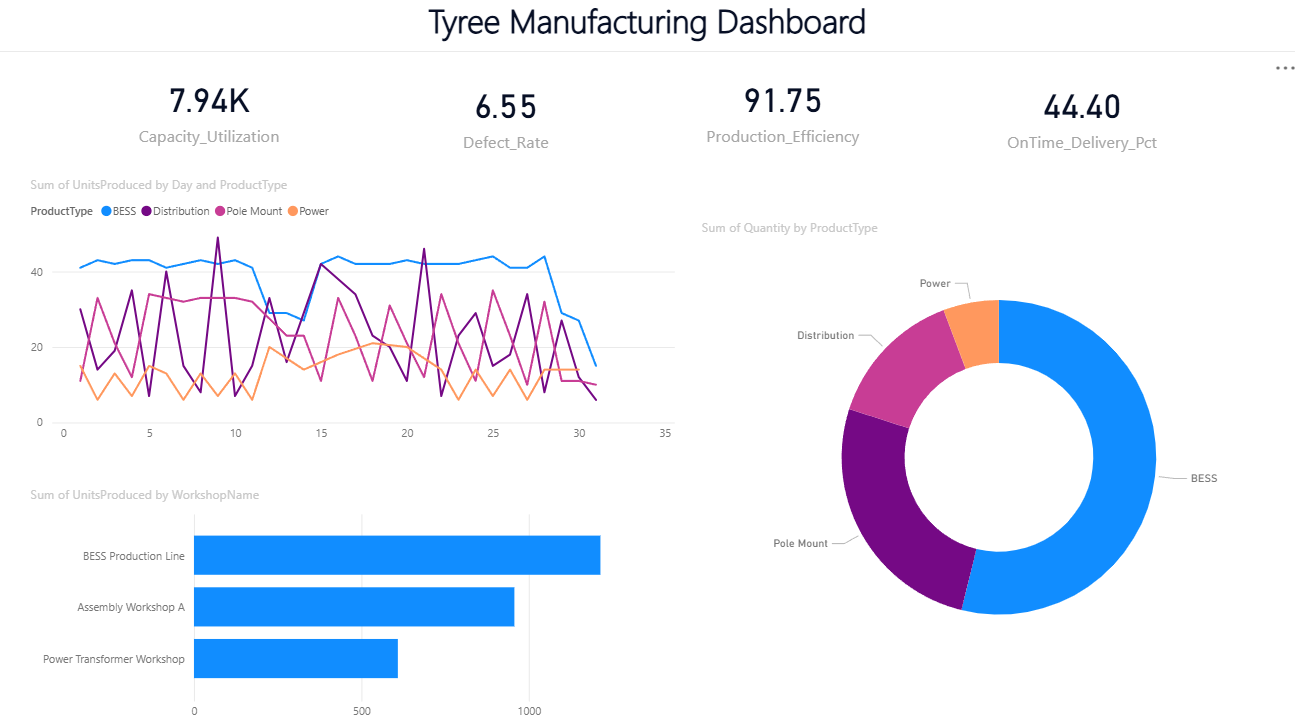

This screenshot's page, from the dashboard's own definition file:
{"tool":"powerbi","page":{"name":"Page 1","canvas":[1280,720],"ordinal":0},"visuals":[{"type":"textbox","box":[0,0,1280.3,57.5],"z":0},{"type":"card","fields":{"Values":["Daily_Production.Production_Efficiency"]},"box":[650.1,28.6,244.8,170],"z":1000},{"type":"card","fields":{"Values":["Production_Orders.OnTime_Delivery_Pct"]},"box":[927.5,34,277.4,170],"z":2000},{"type":"card","fields":{"Values":["Workshop_Capacity.Capacity_Utilization"]},"box":[72.1,28.6,278.8,170],"z":3000},{"type":"card","fields":{"Values":["Daily_Production.Defect_Rate"]},"box":[363.1,39.4,277.4,160.5],"z":4000},{"type":"lineChart","fields":{"Category":["Daily_Production.ProductionDate.Variation.Date Hierarchy.Day"],"Y":["Daily_Production.UnitsProduced"],"Series":["Daily_Production.ProductType"]},"box":[31.3,178.2,640.6,269.3],"z":5000},{"type":"clusteredBarChart","fields":{"Category":["Workshop_Capacity.WorkshopName"],"Y":["Daily_Production.UnitsProduced"]},"box":[31.3,481.4,640.6,238],"z":6000},{"type":"donutChart","fields":{"Category":["Production_Orders.ProductType"],"Y":["Production_Orders.Quantity"]},"box":[688.2,221.7,591.6,450.2],"z":7000}]}

Visuals, with their boxes in screenshot pixels (x1, y1, x2, y2), scaled from the page's 1280x720 canvas onto the 1295x727 screenshot:
textbox: (x1=0, y1=0, x2=1294, y2=58)
card - Daily_Production.Production_Efficiency: (x1=658, y1=29, x2=905, y2=201)
card - Production_Orders.OnTime_Delivery_Pct: (x1=938, y1=34, x2=1219, y2=206)
card - Workshop_Capacity.Capacity_Utilization: (x1=73, y1=29, x2=355, y2=201)
card - Daily_Production.Defect_Rate: (x1=367, y1=40, x2=648, y2=202)
lineChart - Daily_Production.ProductionDate.Variation.Date Hierarchy.Day x Daily_Production.UnitsProduced: (x1=32, y1=180, x2=680, y2=452)
clusteredBarChart - Workshop_Capacity.WorkshopName x Daily_Production.UnitsProduced: (x1=32, y1=486, x2=680, y2=726)
donutChart - Production_Orders.ProductType x Production_Orders.Quantity: (x1=696, y1=224, x2=1294, y2=678)
